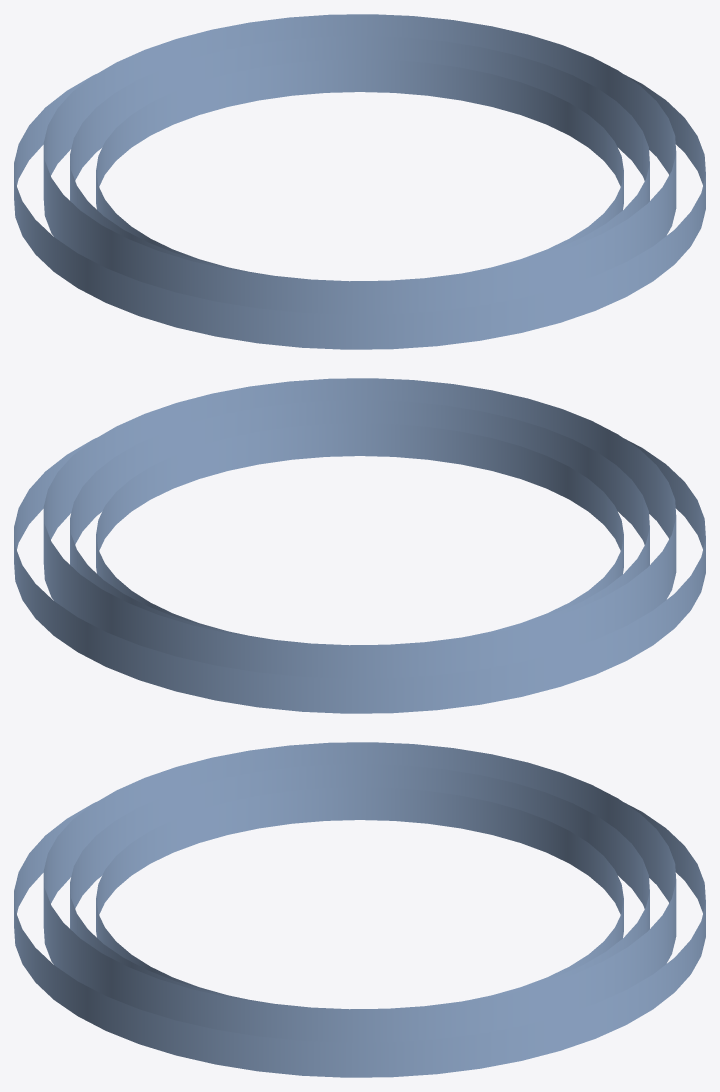
Rendered from Skyline_01.fbx.
3 renders of one model, top to bottom at view 1: azimuth 30°, elevation 25°; view 2: azimuth 150°, elevation 25°; view 3: azimuth 270°, elevation 25°, orthographic.
Parts seen in each view (by area): view 1: SM_Env_Skyline_02, SM_Env_Skyline_04, SM_Env_Skyline_03, SM_Env_Skyline_01; view 2: SM_Env_Skyline_02, SM_Env_Skyline_04, SM_Env_Skyline_03, SM_Env_Skyline_01; view 3: SM_Env_Skyline_02, SM_Env_Skyline_04, SM_Env_Skyline_03, SM_Env_Skyline_01.
Part boxes in pixels (x1,y1,x2,y2): SM_Env_Skyline_02: (43, 14, 676, 314); SM_Env_Skyline_04: (14, 74, 705, 349); SM_Env_Skyline_03: (70, 36, 649, 281); SM_Env_Skyline_01: (96, 59, 623, 271); SM_Env_Skyline_02: (43, 378, 676, 678); SM_Env_Skyline_04: (14, 438, 705, 713); SM_Env_Skyline_03: (70, 400, 649, 645); SM_Env_Skyline_01: (96, 423, 623, 635); SM_Env_Skyline_02: (43, 742, 676, 1042); SM_Env_Skyline_04: (14, 802, 705, 1077); SM_Env_Skyline_03: (70, 764, 649, 1009); SM_Env_Skyline_01: (96, 787, 623, 999).
Bounding box in the file's own units: 527 × 46.79 × 527.
